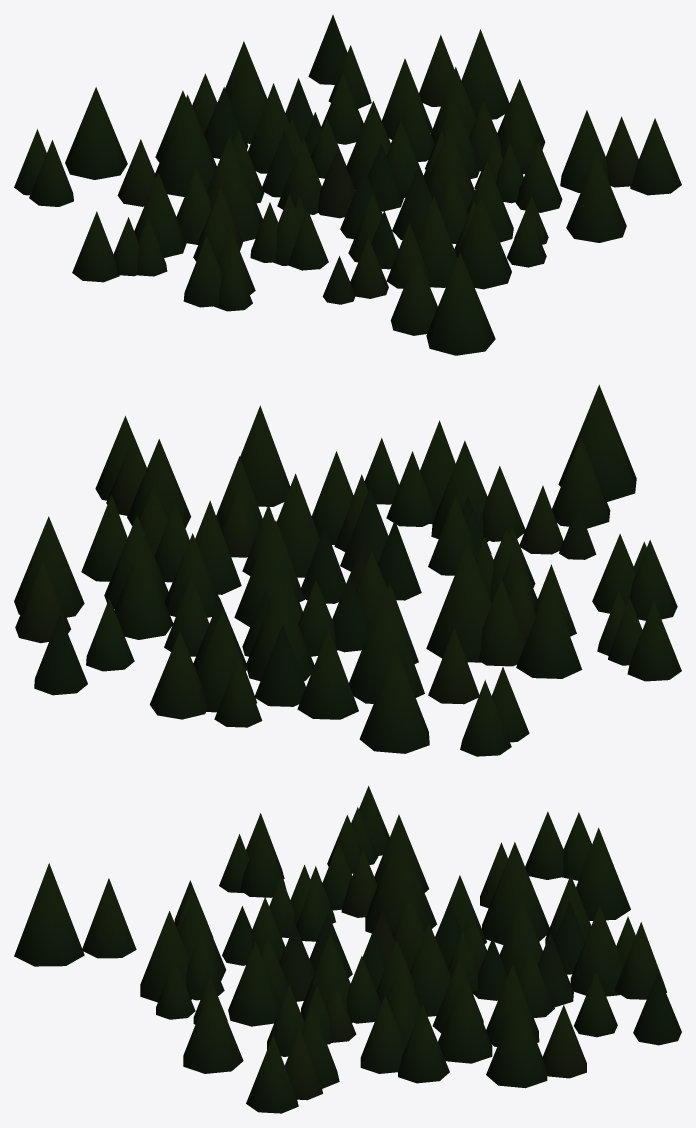
Rendered from SM_PineForest002.fbx.
3 views of the same model, one above another, from view 1: azimuth 30°, elevation 25°; view 2: azimuth 150°, elevation 25°; view 3: azimuth 270°, elevation 25° (orthographic). The views are drawn at different scales.
Parts seen in each view (by area): view 1: SM_PineForest002; view 2: SM_PineForest002; view 3: SM_PineForest002.
Part boxes in pixels (x1=…): SM_PineForest002: x1=14, y1=15, x2=681, y2=355; SM_PineForest002: x1=14, y1=384, x2=681, y2=756; SM_PineForest002: x1=14, y1=786, x2=681, y2=1113.
Bounding box in the file's own units: 209 × 34.18 × 215.
